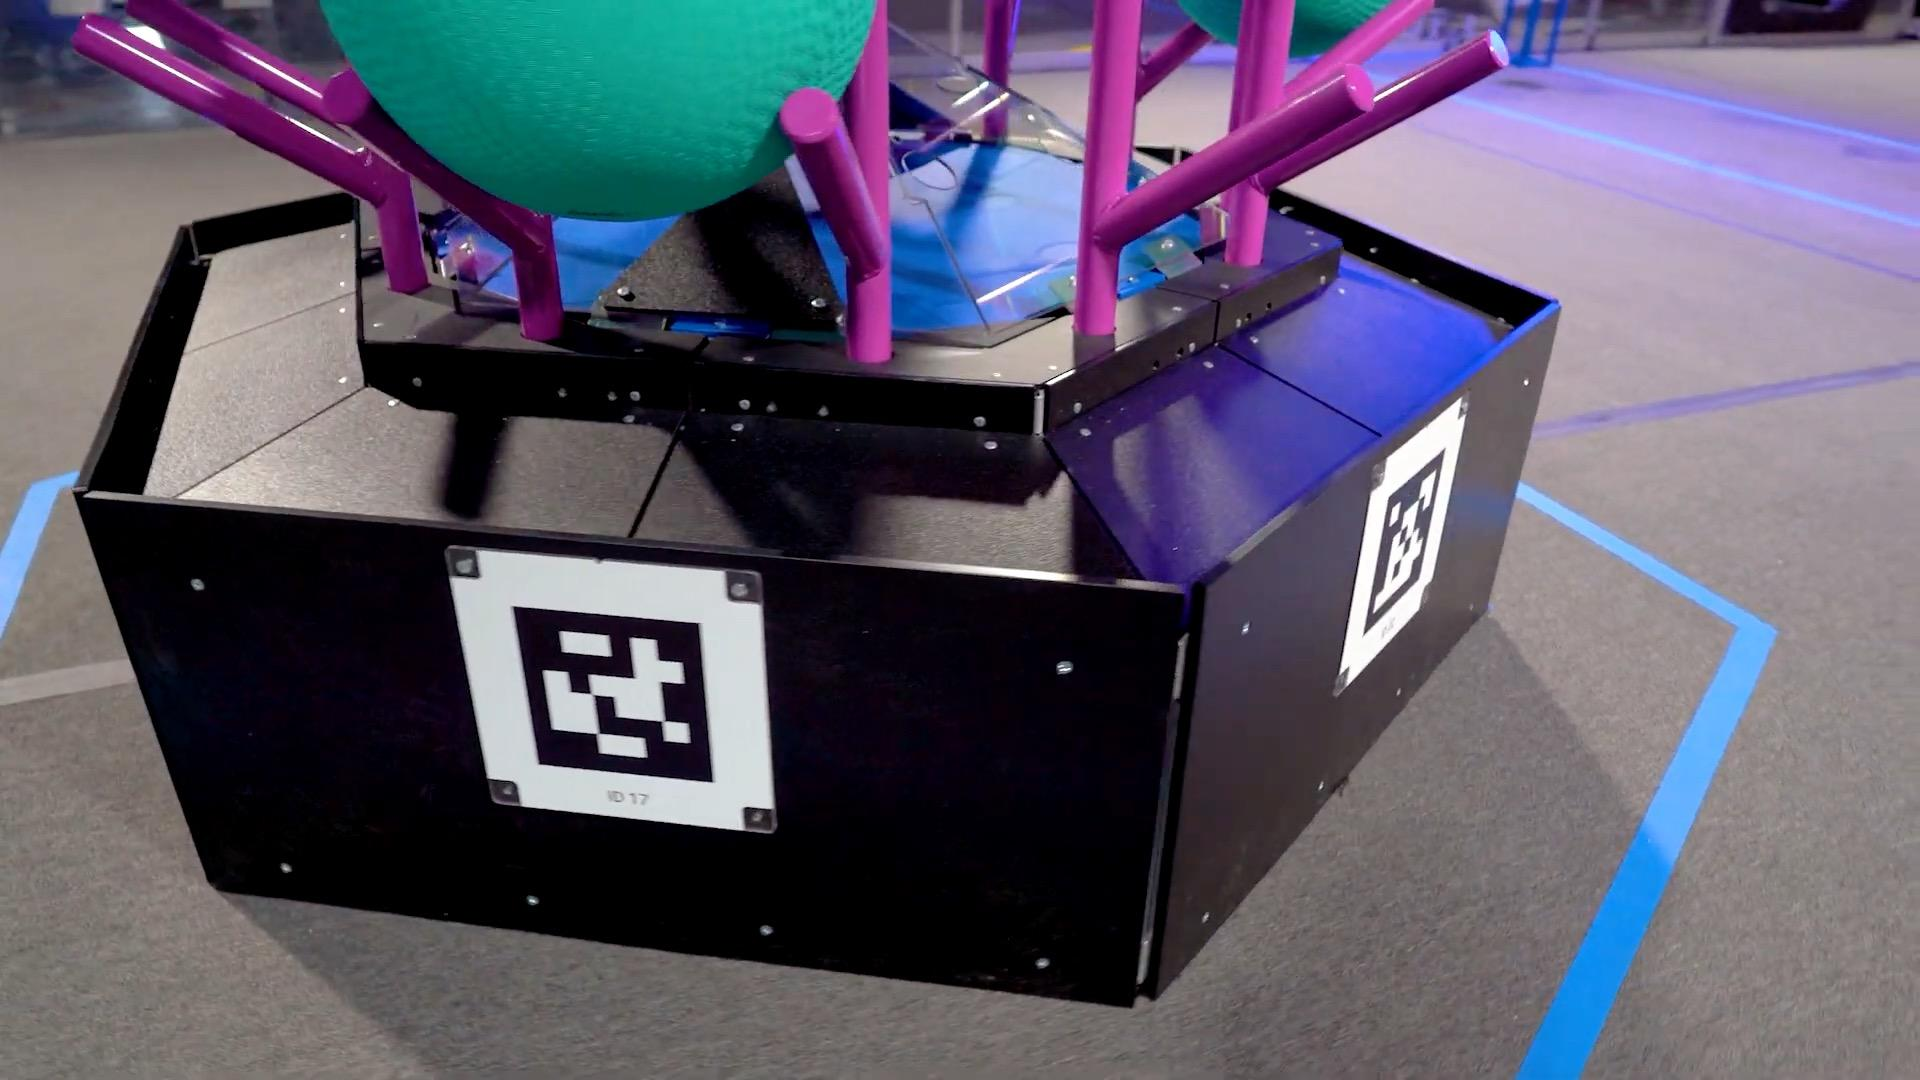ALGAE: (316, 0, 878, 222), (1174, 0, 1393, 61)
